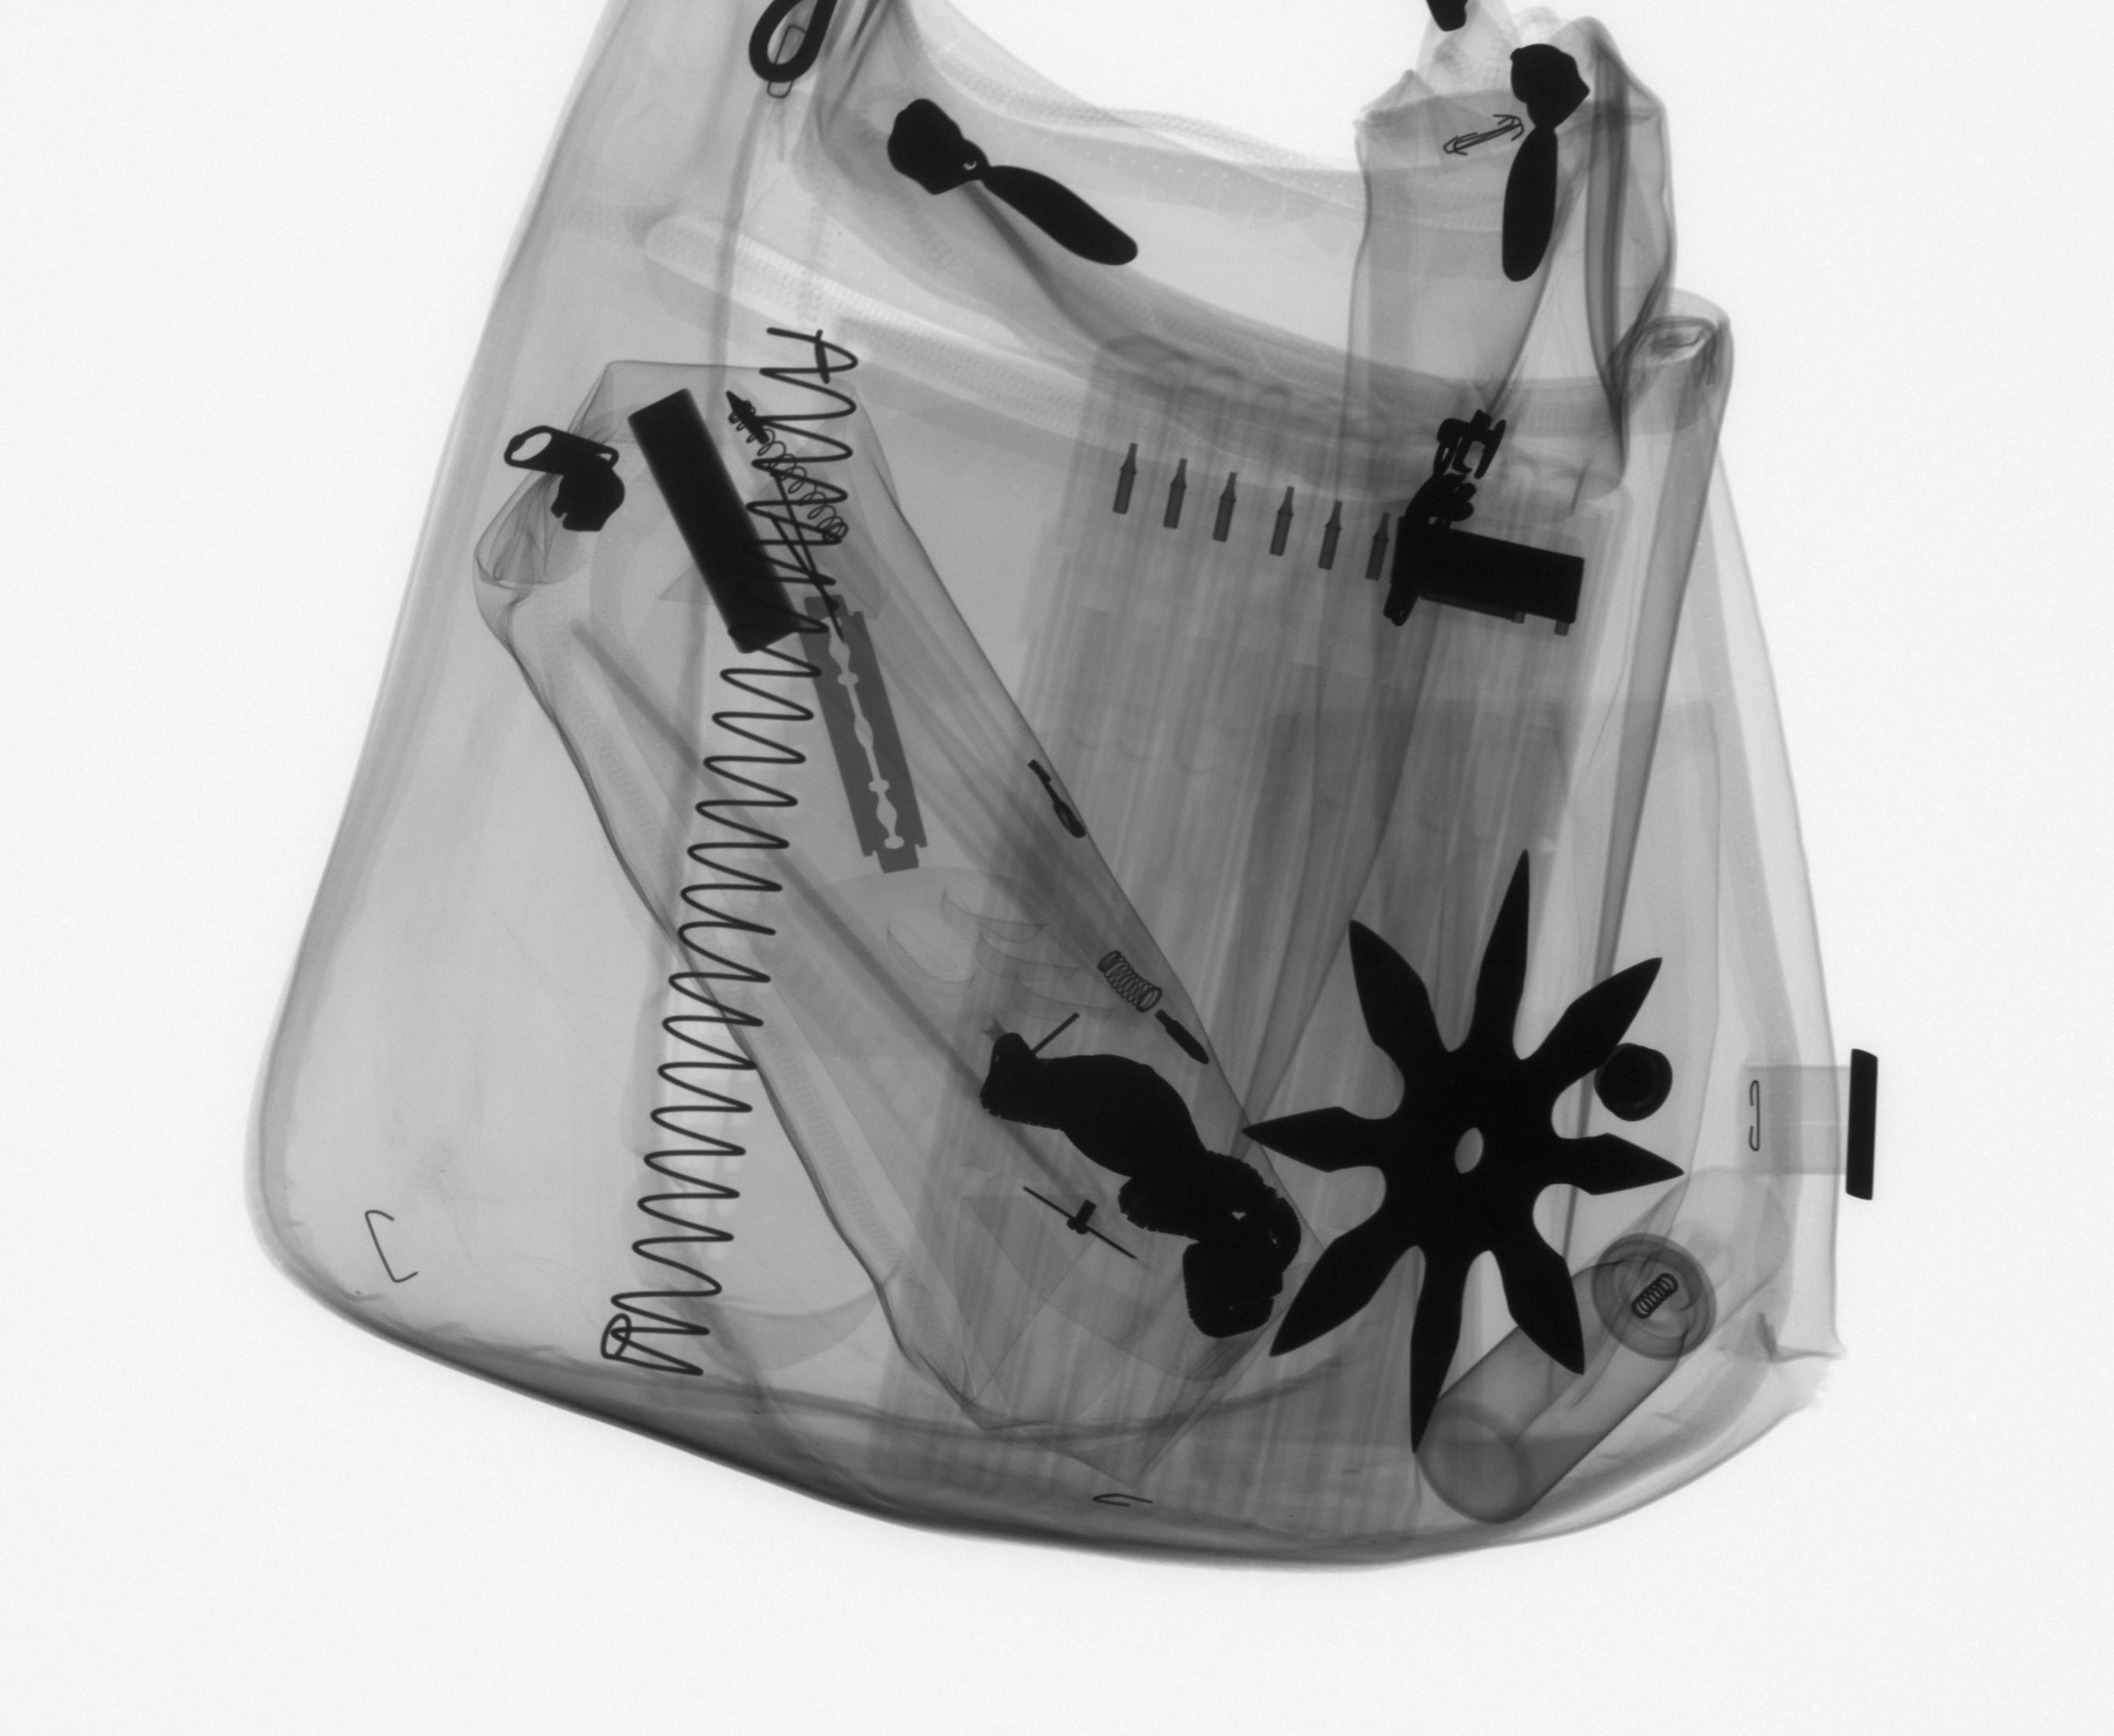RazorBlade: (790, 589, 936, 882)
Shuriken: (1227, 841, 1692, 1458)
